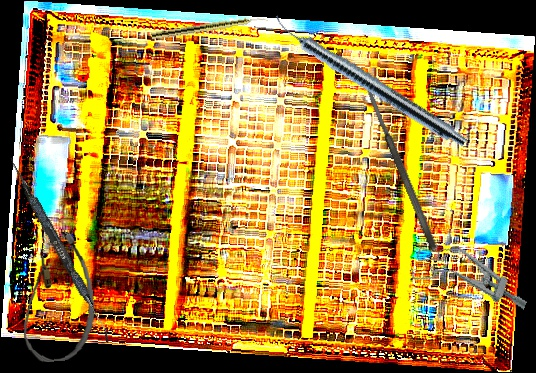Cannula: (15, 230, 99, 364)
Handpiece: (267, 11, 472, 151), (151, 13, 268, 42)
Spatula Surgical: (3, 156, 118, 344), (362, 81, 439, 251)
Speculum: (408, 235, 536, 319)
